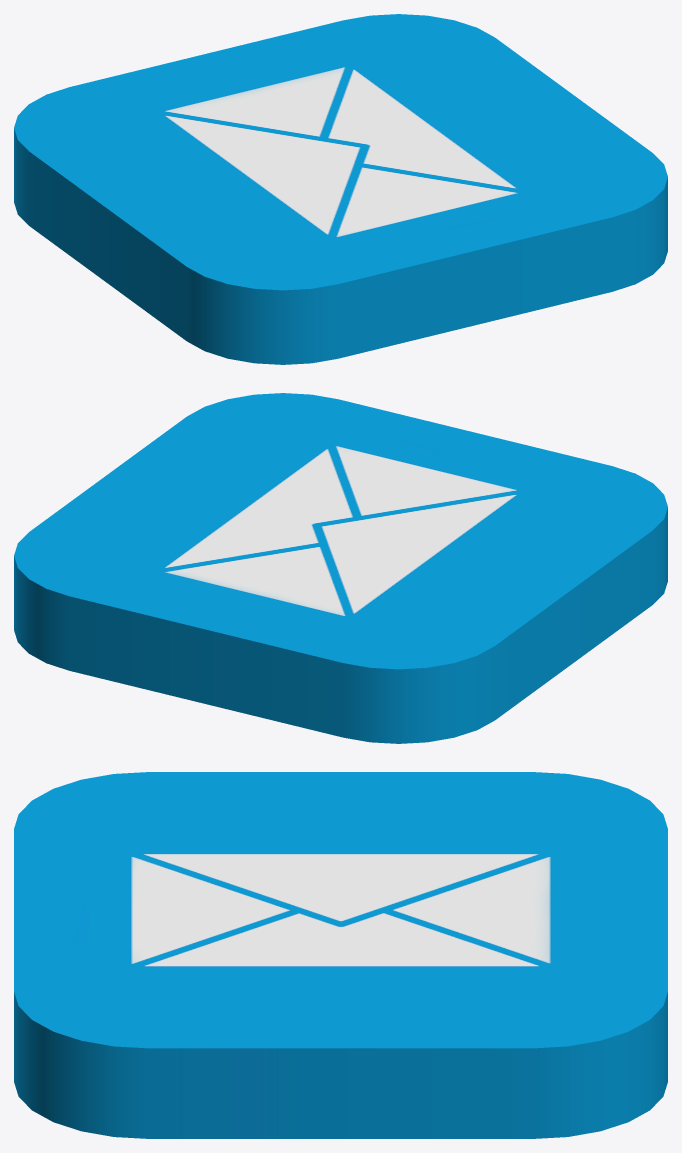
File: Mail.glb
The picture shows the model from 3 angles, top to bottom: view 1: azimuth 30°, elevation 25°; view 2: azimuth 150°, elevation 25°; view 3: azimuth 270°, elevation 25°; orthographic projection. The views are drawn at different scales.
Parts seen in each view (by area): view 1: Plane; view 2: Plane; view 3: Plane.
Boxes of the visible parts, box(x1,y1,x2,y2) form: Plane: box(14, 14, 667, 364); Plane: box(14, 393, 667, 743); Plane: box(14, 772, 667, 1138).
Bounding box in the file's own units: 2 × 0.3057 × 2.
Materials: 1 (1 with a texture image).
